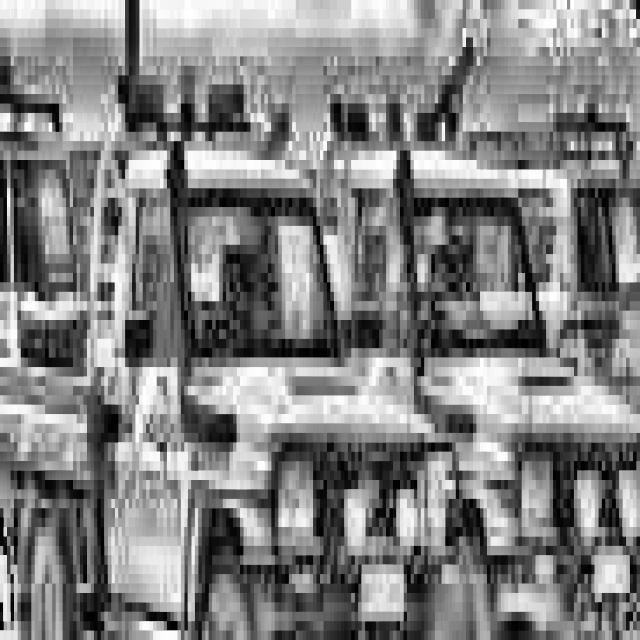light_vehicle: (0, 47, 445, 640), (327, 103, 640, 640)
